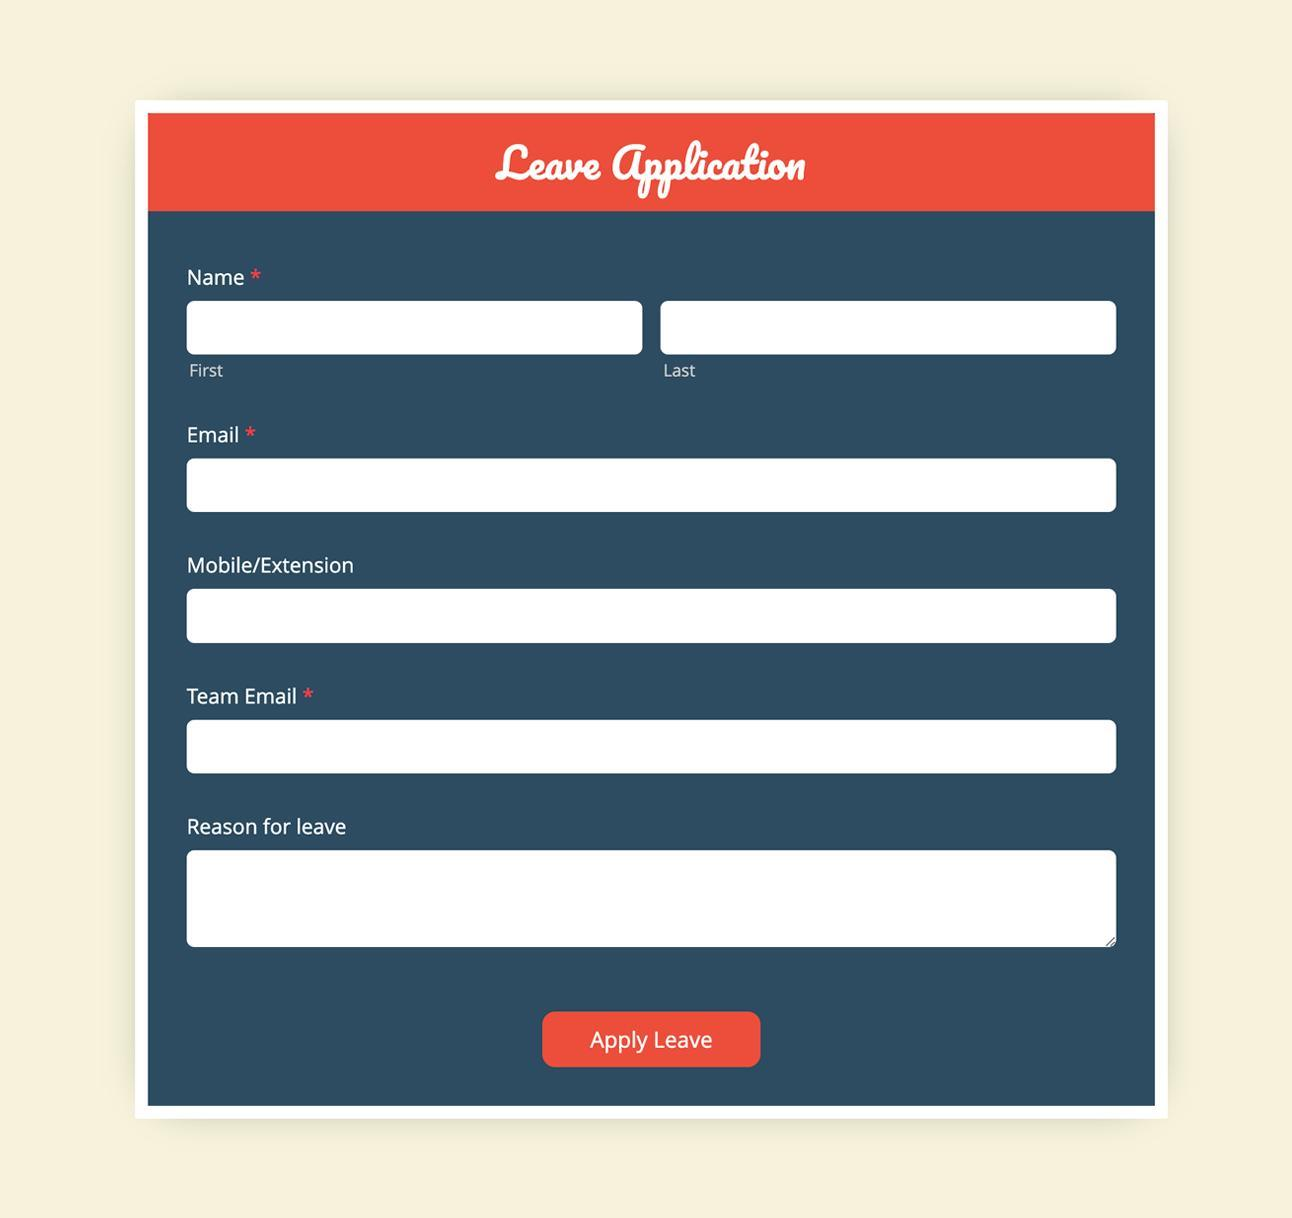button: (538, 1013, 764, 1070)
input: (184, 456, 1120, 515), (187, 590, 1121, 646), (185, 720, 1117, 776), (185, 300, 644, 356), (660, 300, 1118, 355)
label: (482, 133, 813, 193), (185, 551, 360, 582), (188, 818, 355, 840), (187, 686, 322, 711), (176, 267, 265, 291), (181, 426, 254, 446)
